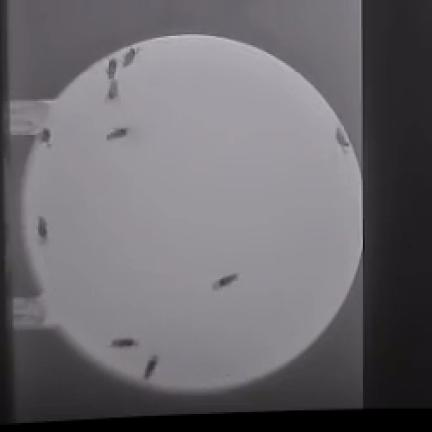fly: (213, 274, 238, 289), (144, 355, 158, 379), (123, 47, 138, 68), (336, 128, 350, 149), (108, 128, 129, 140), (108, 80, 119, 100), (111, 339, 138, 347), (39, 218, 48, 242), (39, 128, 51, 145), (108, 58, 117, 79)
